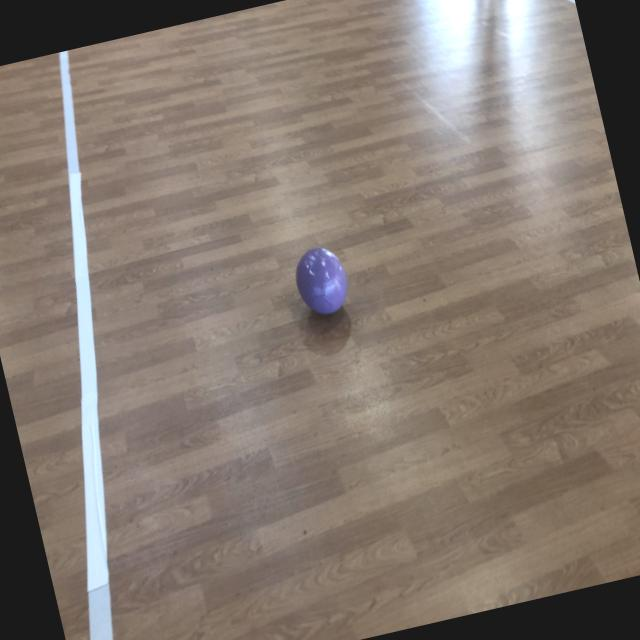purple_ball: (290, 242, 353, 318)
